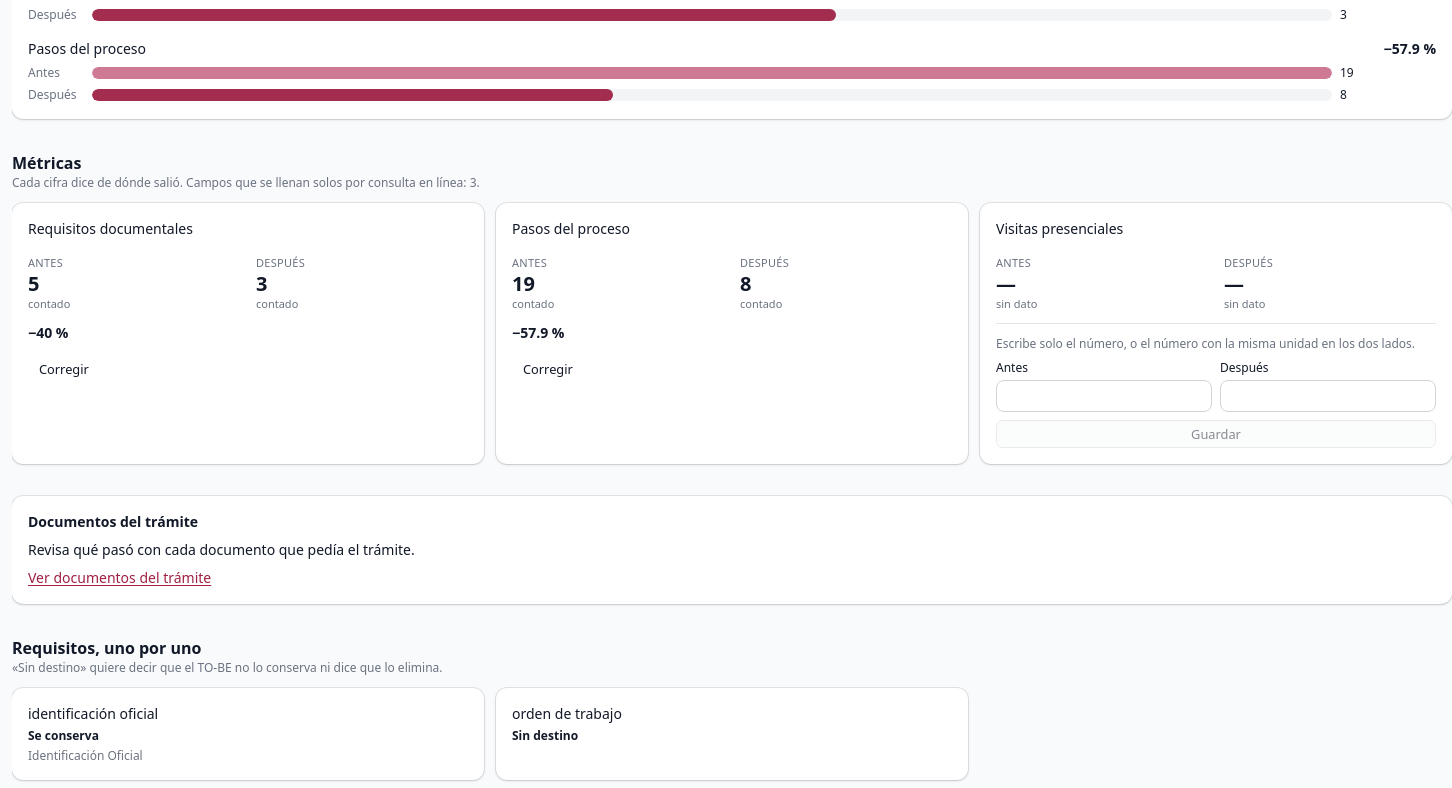
Test case: una métrica sin dato se captura en su tarjeta y la vista se recalcula
(page scrolled)
In the field labelled "Antes": (1104, 396) [996,380,1212,412], type "2"
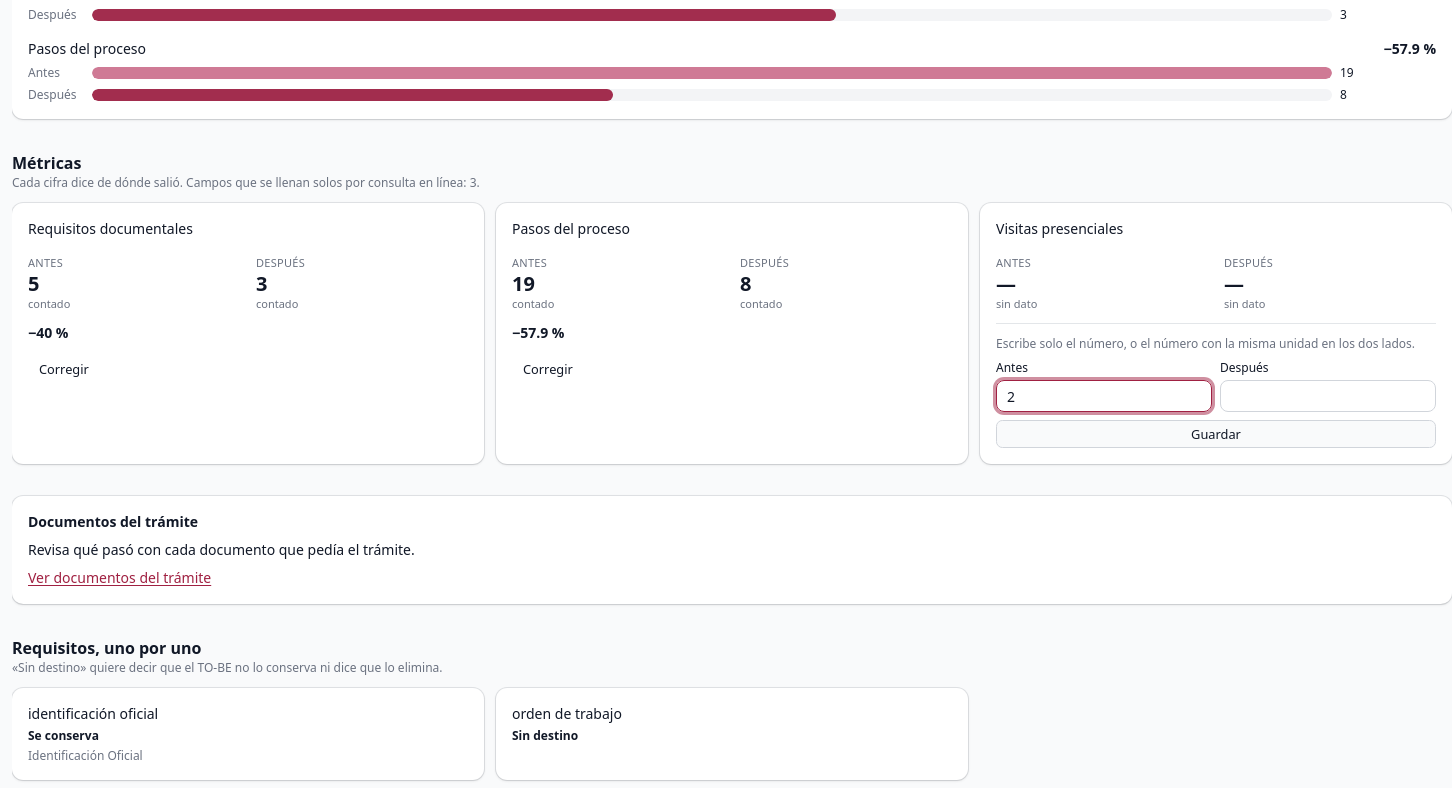
In the field labelled "Después": (1328, 396) [1220,380,1436,412], type "0"
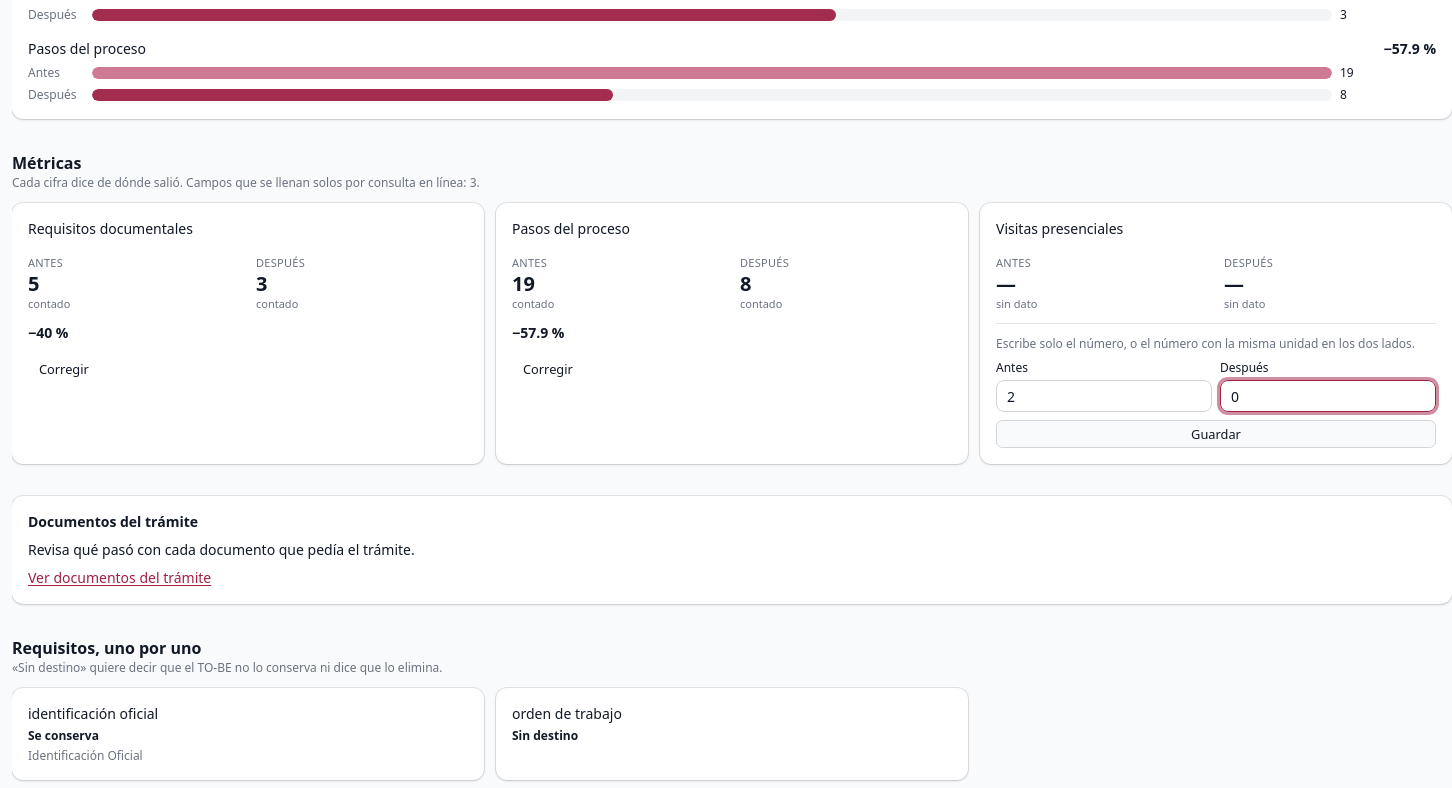
Click the button "Guardar": (1216, 434) [996,420,1436,448]
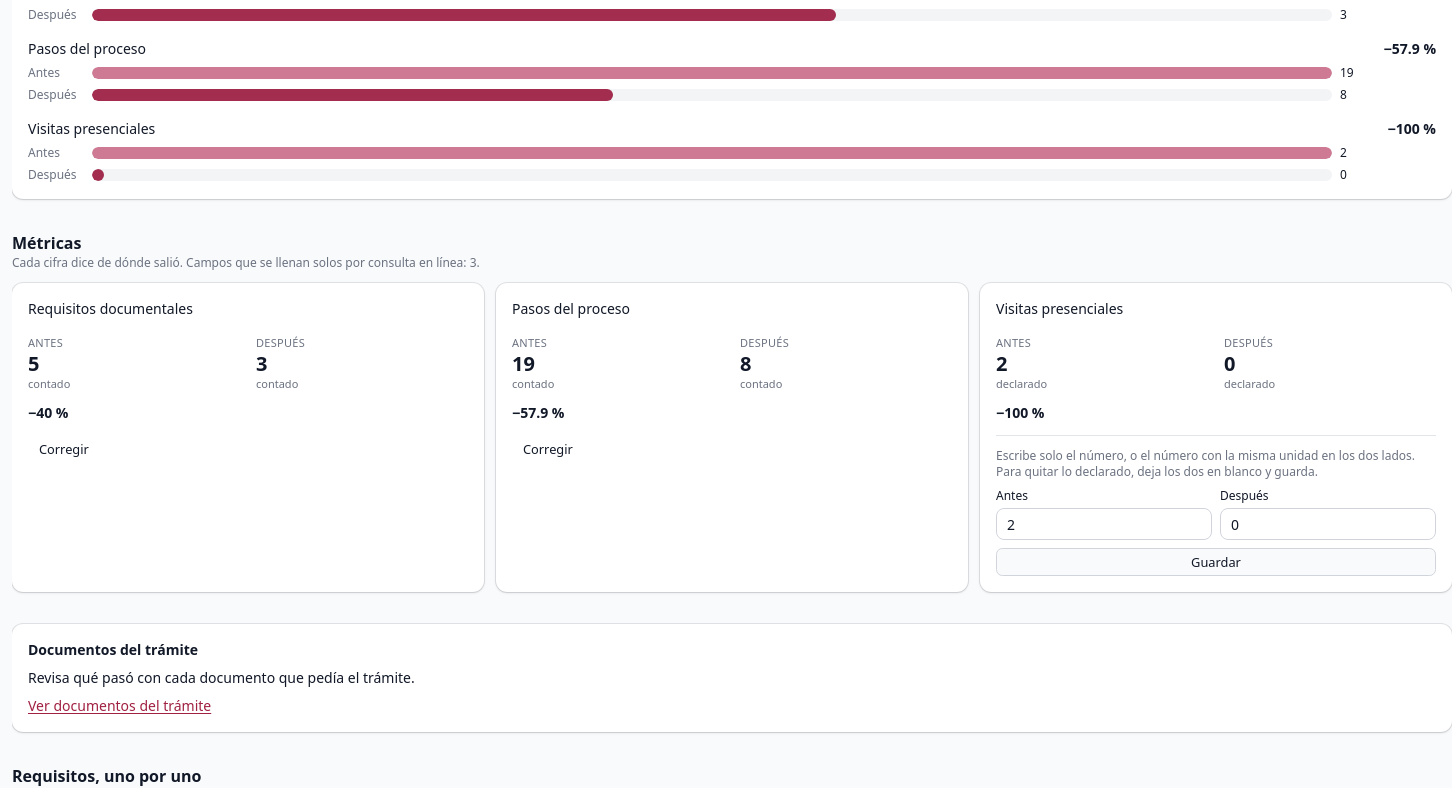
Expected: the element "Visitas presenciales" shows "declarado", [996,376,1047,391]
